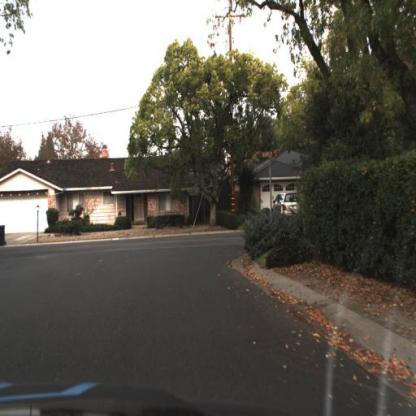car: (271, 192, 303, 223)
